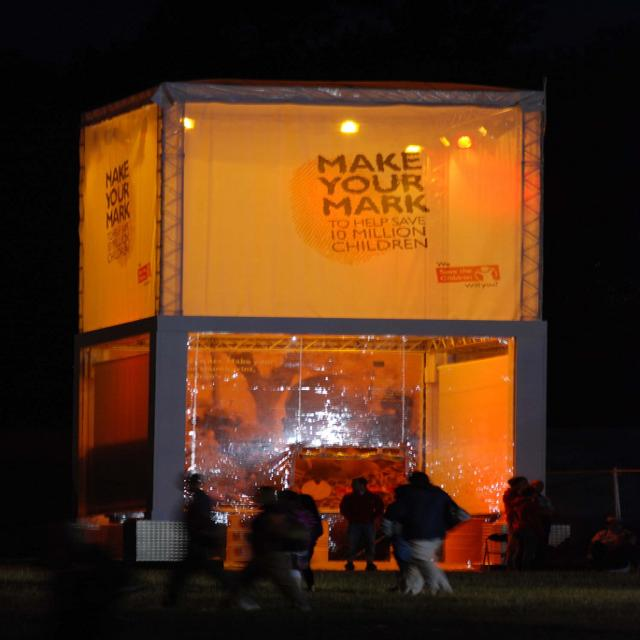no_fire: (98, 67, 640, 545)
